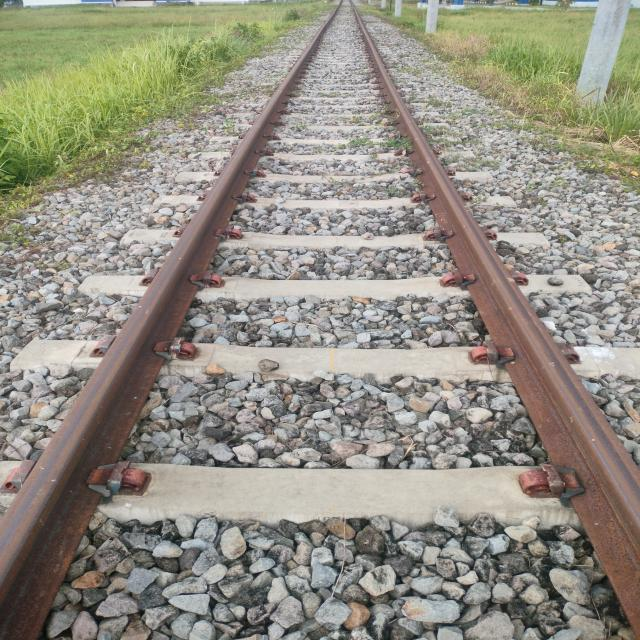rail-detection: (0, 5, 340, 640), (351, 3, 640, 637)
